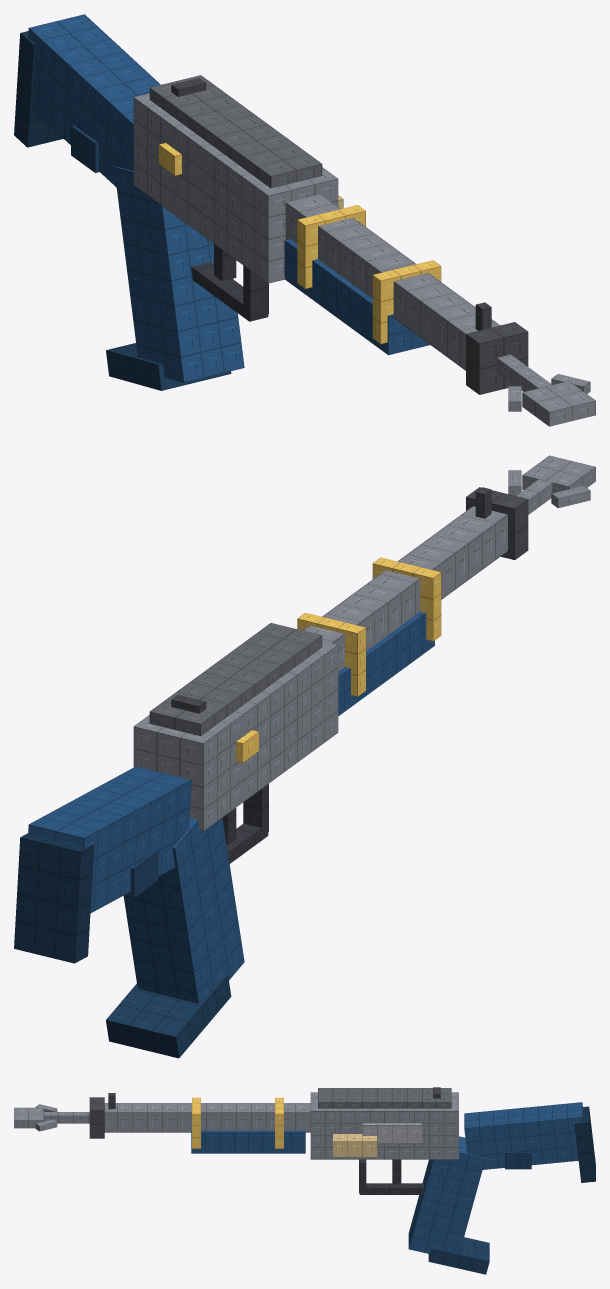
3 views of the same model, one above another, from view 1: azimuth 30°, elevation 25°; view 2: azimuth 150°, elevation 25°; view 3: azimuth 270°, elevation 25° (orthographic). The views are drawn at different scales.
Visible parts, largest first — view 1: W14; view 2: W14; view 3: W14.
Part boxes in pixels (x1,y1,x2,y2): W14: [14, 14, 595, 426]; W14: [14, 455, 595, 1058]; W14: [14, 1087, 595, 1274].
Size of the model in its own units: 0.44 by 1.3 by 3.92.
Materials: 1 (1 with a texture image).
